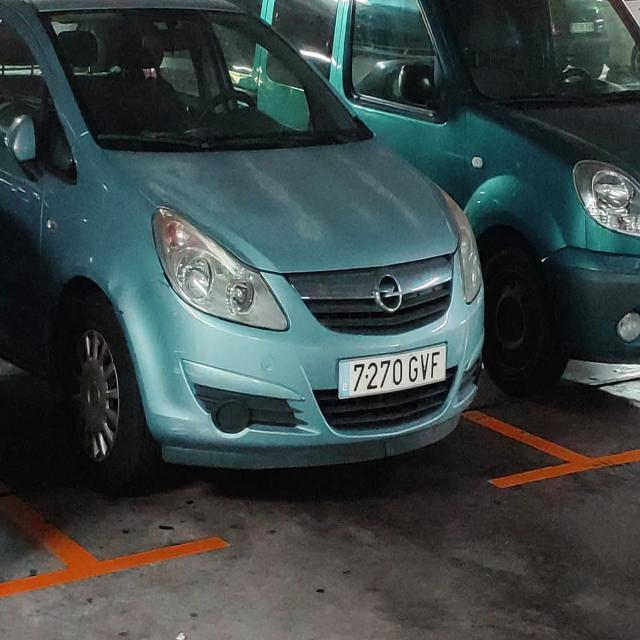License-Plate: (337, 340, 448, 402)
